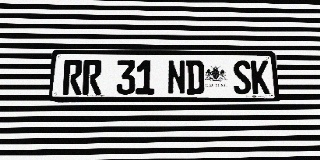1: (136, 60, 154, 95)
3: (116, 60, 135, 95)
D: (186, 60, 205, 95)
K: (251, 61, 270, 94)
N: (167, 60, 186, 95)
R: (62, 60, 83, 95), (82, 60, 102, 95)
S: (233, 60, 252, 94)
